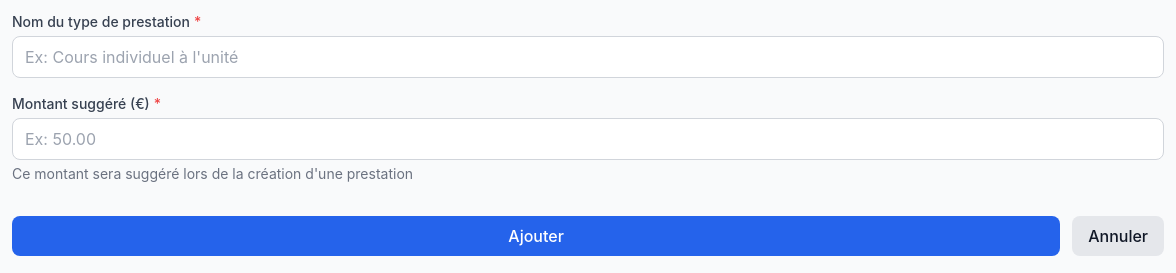
TypePrestationForm › shows error when montant_suggere is empty on submit
In the field: (588, 57) [12,36,1164,78], type "Cours"
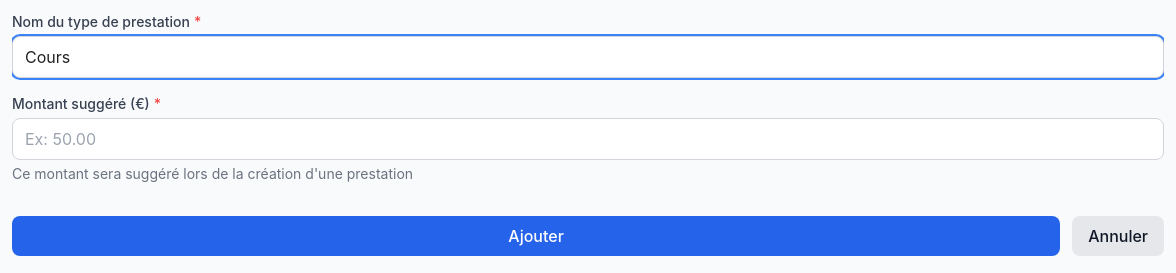
Submit the form
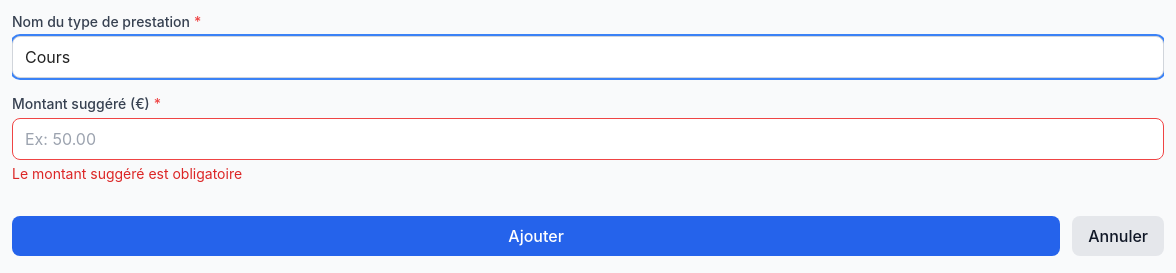
Expected: the text "Le montant suggéré est obligatoire" is shown, [12,165,242,182]
